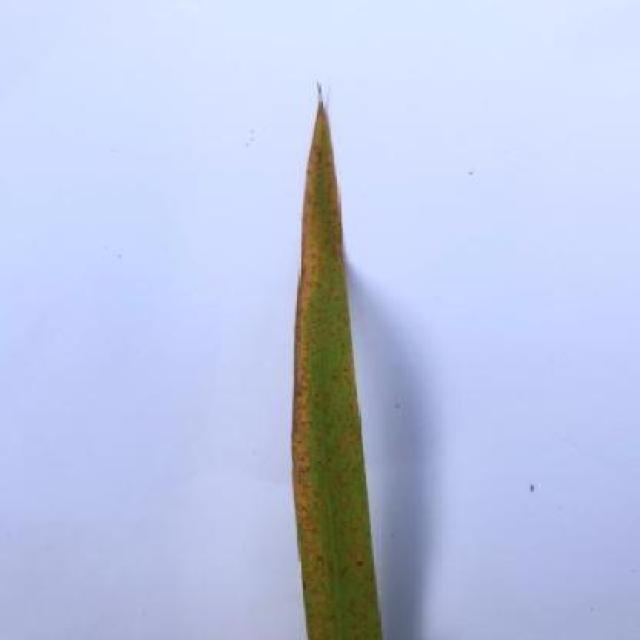Rice False Smut: (292, 94, 383, 640)
